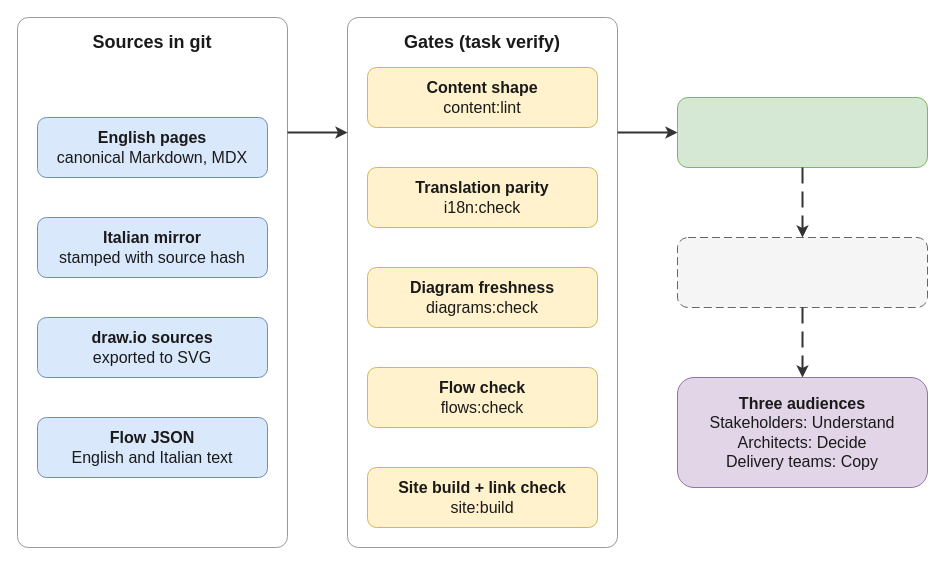
Some shapes in this 945 by 565 pixel diagram are drawn without their labels. Here are the shapes that lost their labels. From the top down, the centre of each, then its label:
At (x=802, y=132): "Static site / (English) and /it/ (Italian)".
At (x=802, y=272): "GitHub Pages destination, not wired yet".
